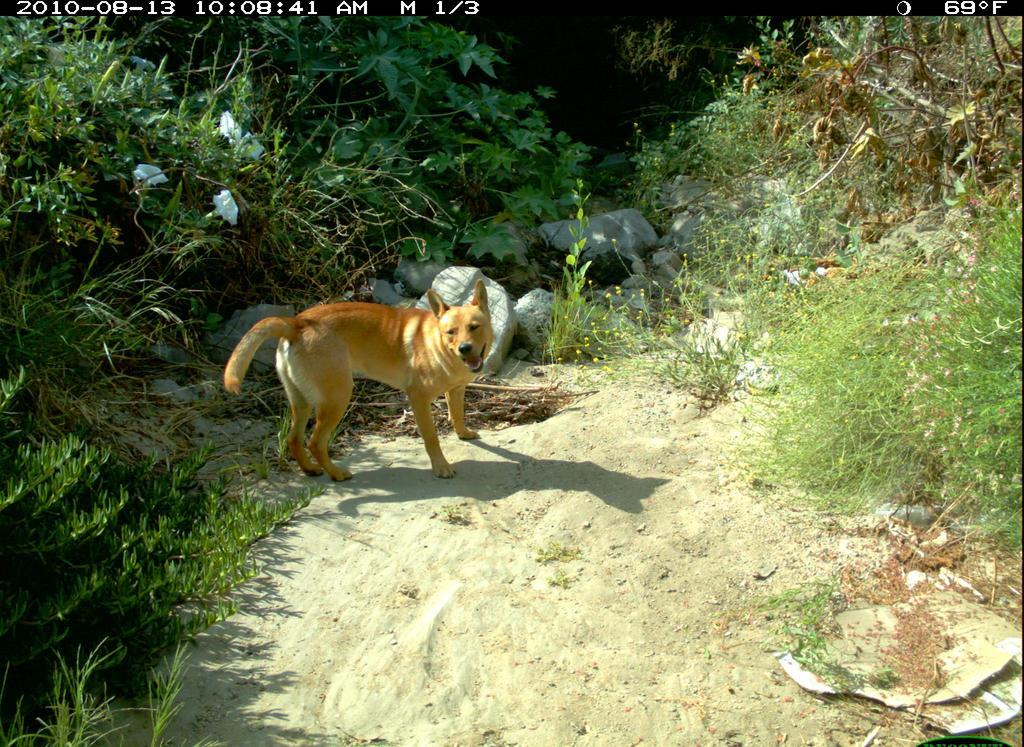dog: (223, 278, 504, 488)
